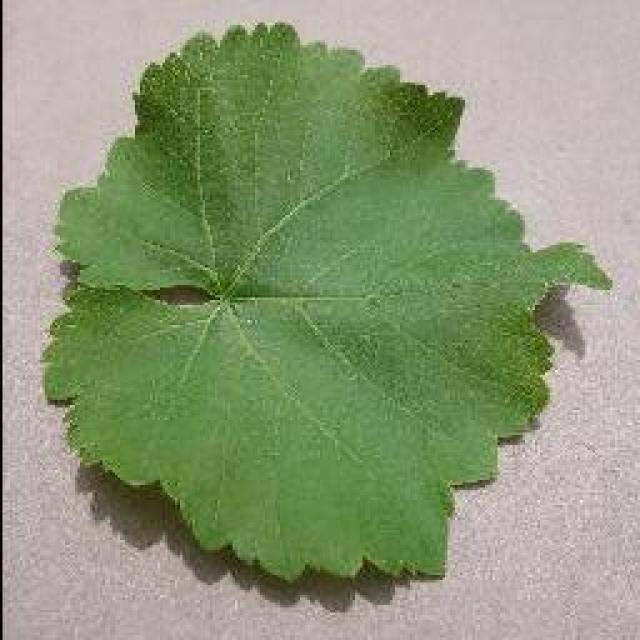Grape___healthy: (45, 25, 608, 578)
